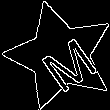M_NW: (26, 22, 95, 89)
